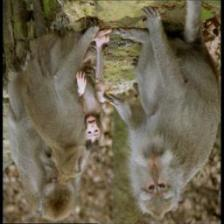monkey: (130, 132, 184, 214), (35, 142, 68, 204), (82, 110, 108, 152)
